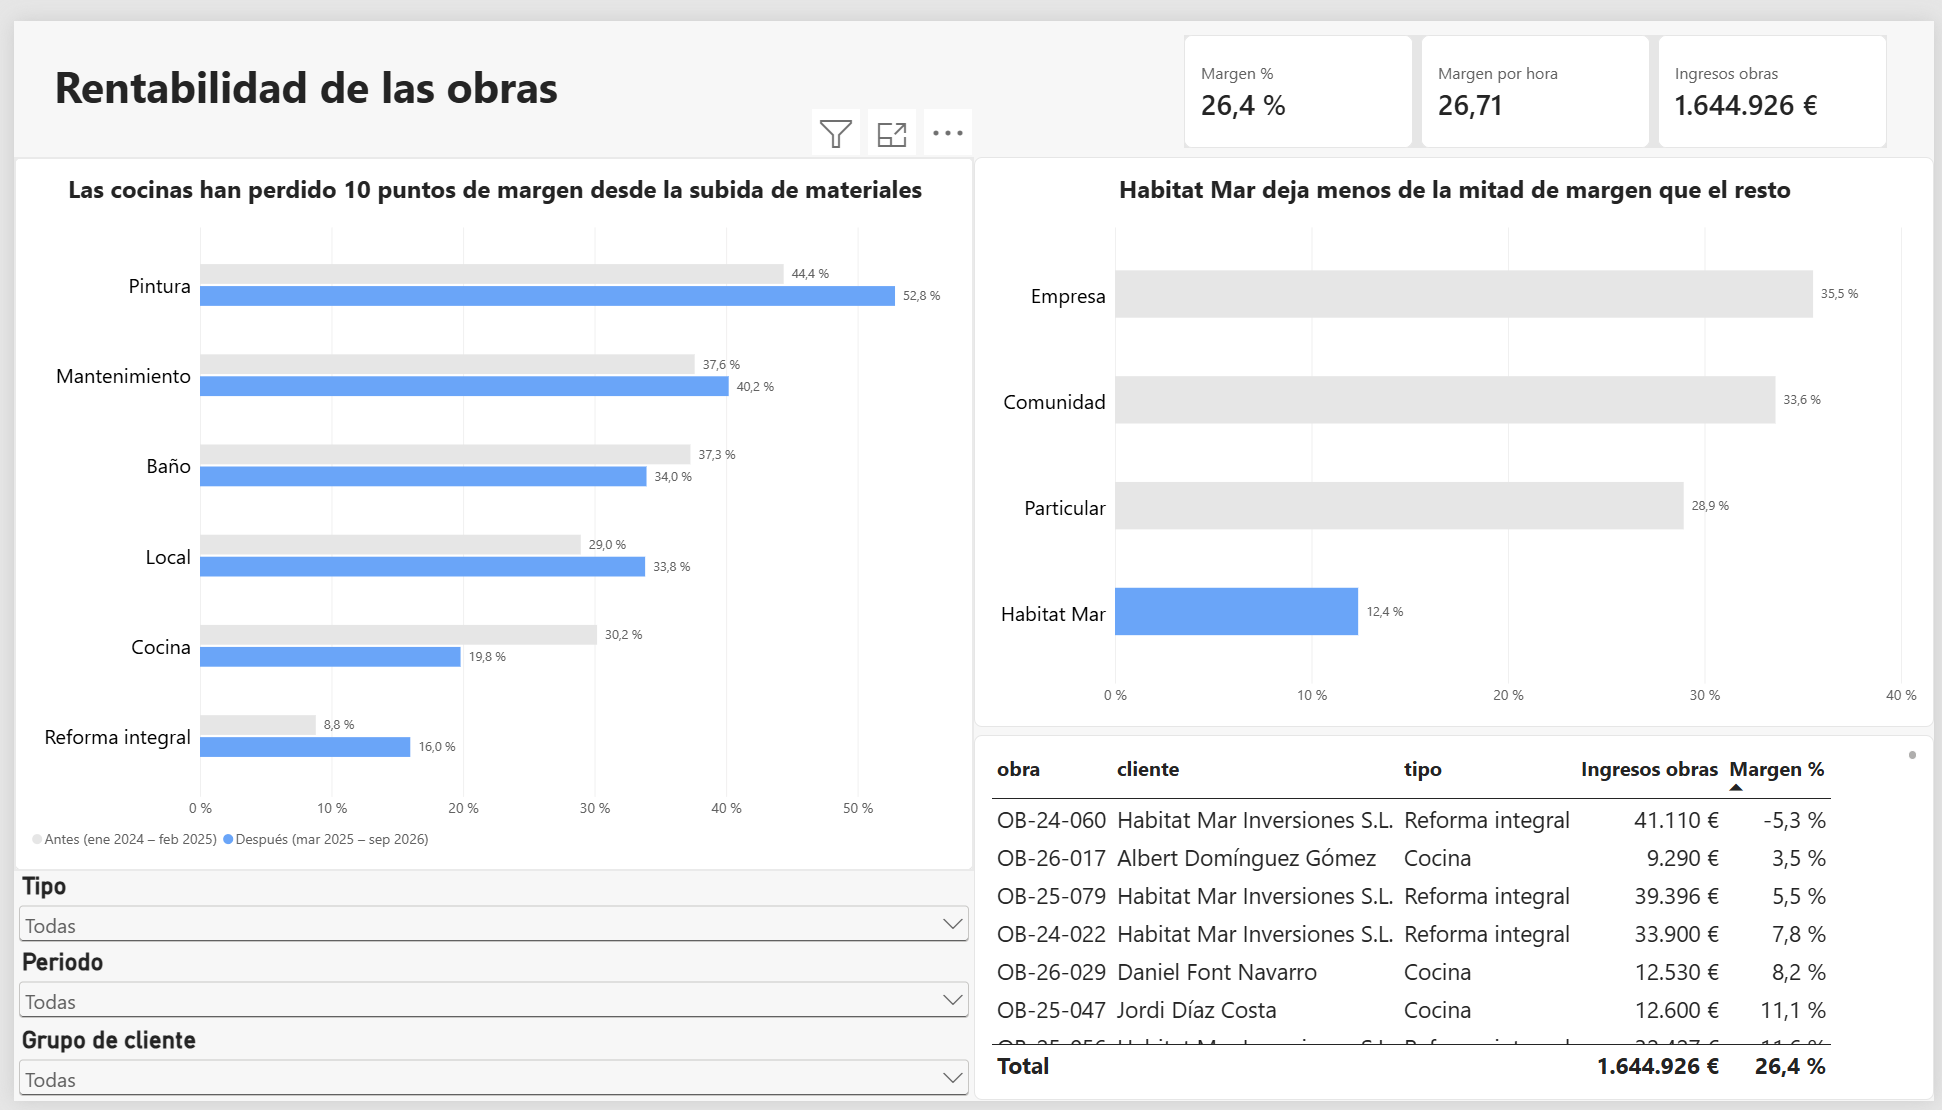

The page's visual inventory and layout, read from the dashboard file:
{"tool":"powerbi","page":{"name":"Rentabilidad","canvas":[1920,1080],"ordinal":0},"visuals":[{"type":"cardVisual","fields":{"Data":["_Medidas.Margen %","_Medidas.Margen por hora","_Medidas.Ingresos obras"]},"box":[1170,13.3,703.3,113.3],"z":0},{"type":"clusteredBarChart","title":"Las cocinas han perdido 10 puntos de margen desde la subida de materiales","fields":{"Category":["analisis_margen_obras.tipo"],"Series":["analisis_margen_obras.periodo"],"Y":["_Medidas.Margen %"]},"box":[0,136.7,960,713.3],"z":1},{"type":"clusteredBarChart","title":"Habitat Mar deja menos de la mitad de margen que el resto","fields":{"Category":["analisis_margen_obras.Grupo de cliente"],"Y":["_Medidas.Margen %"]},"box":[960,135,960,570],"z":2},{"type":"tableEx","fields":{"Values":["analisis_margen_obras.obra","analisis_margen_obras.cliente","analisis_margen_obras.tipo","_Medidas.Ingresos obras","_Medidas.Margen %"]},"box":[960,713.3,960,365],"z":3},{"type":"slicer","fields":{"Values":["analisis_margen_obras.tipo"]},"box":[0,850,960,75],"z":6},{"type":"slicer","fields":{"Values":["analisis_margen_obras.periodo"]},"box":[0,926.7,960,75],"z":7},{"type":"slicer","fields":{"Values":["analisis_margen_obras.Grupo de cliente"]},"box":[0,1003.3,960,75],"z":8},{"type":"textbox","box":[40,36,578,68],"z":9}]}

Visuals, with their boxes in screenshot pixels (x1, y1, x2, y2), scaled from the page's 1920x1080 canvas onto the 1942x1110 screenshot:
cardVisual - _Medidas.Margen % x _Medidas.Margen por hora: [x1=1183, y1=14, x2=1895, y2=130]
"Las cocinas han perdido 10 puntos de margen desde la subida de materiales" clusteredBarChart: [x1=0, y1=140, x2=971, y2=874]
"Habitat Mar deja menos de la mitad de margen que el resto" clusteredBarChart: [x1=971, y1=139, x2=1941, y2=725]
tableEx - analisis_margen_obras.obra x analisis_margen_obras.cliente: [x1=971, y1=733, x2=1941, y2=1108]
slicer - analisis_margen_obras.tipo: [x1=0, y1=874, x2=971, y2=951]
slicer - analisis_margen_obras.periodo: [x1=0, y1=952, x2=971, y2=1030]
slicer - analisis_margen_obras.Grupo de cliente: [x1=0, y1=1031, x2=971, y2=1108]
textbox: [x1=40, y1=37, x2=625, y2=107]
